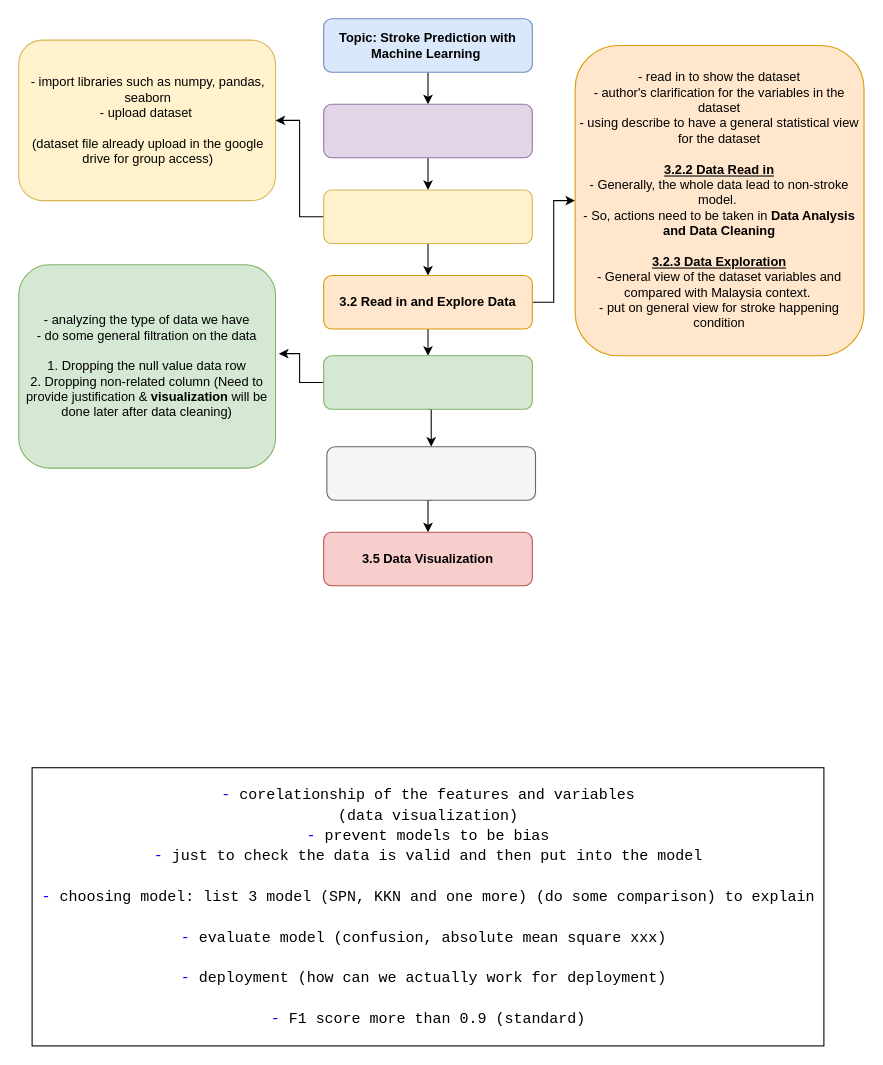
Image size: 883x1065. Some labels were removed from this diagram. The shapes that lost their labels are listed below. From the top down, each one's centre as x and y in pixels, then its label:
[427,130]: COLAB Part 3: Data Set Organization
[427,216]: 3.1 Import Necessary Library
[427,382]: 3.3 Data Analysis
[431,473]: 3.4 Data Cleaning
